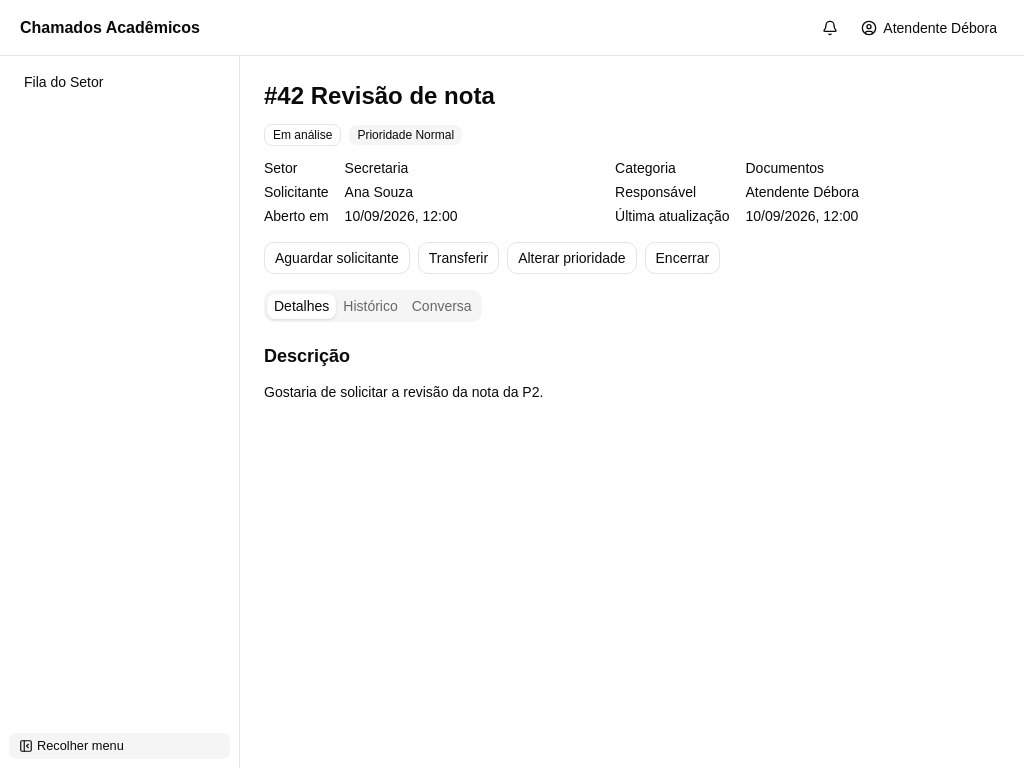
Test: TransferDialog (BR9.7, US2.4) › requires a justification of at least 5 characters before sending (AC2.4.3)
This screenshot has width=1024, height=768.
Expected: the heading "#42 Revisão de nota" is shown, [264,82,495,109]
Click the button with test id "ticket-actions-transfer-button" at (458, 258), box [418,242,499,274]
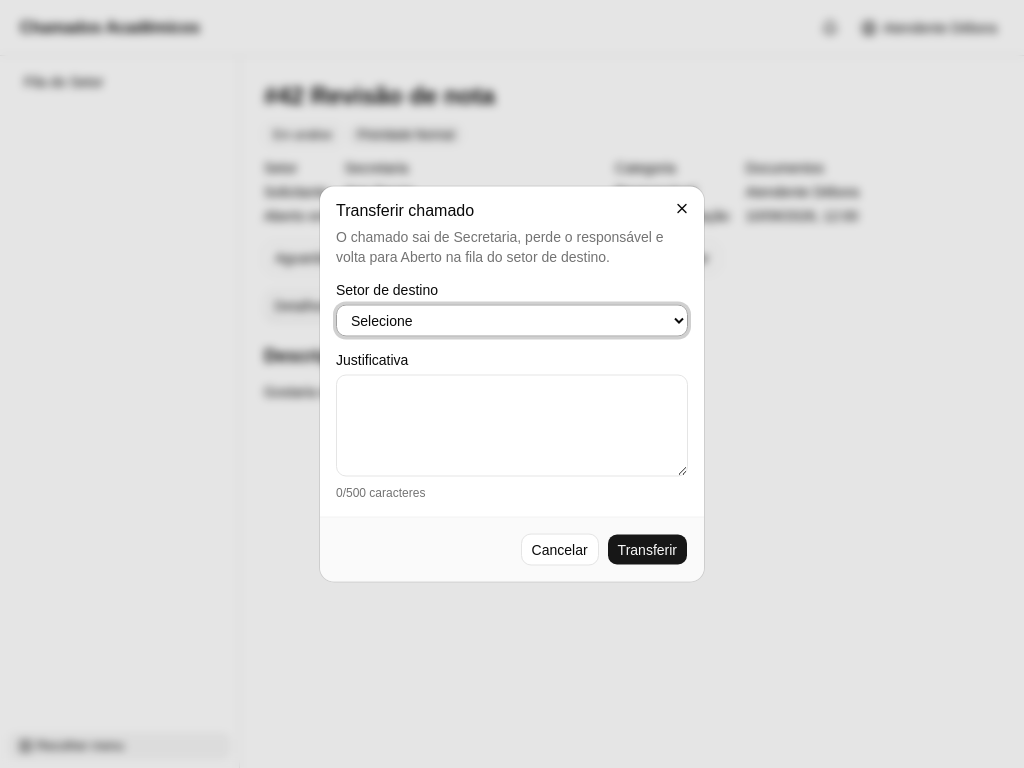
Select "Financeiro" in the dropdown labelled "Setor de destino" at (512, 320), box [336,304,688,336]
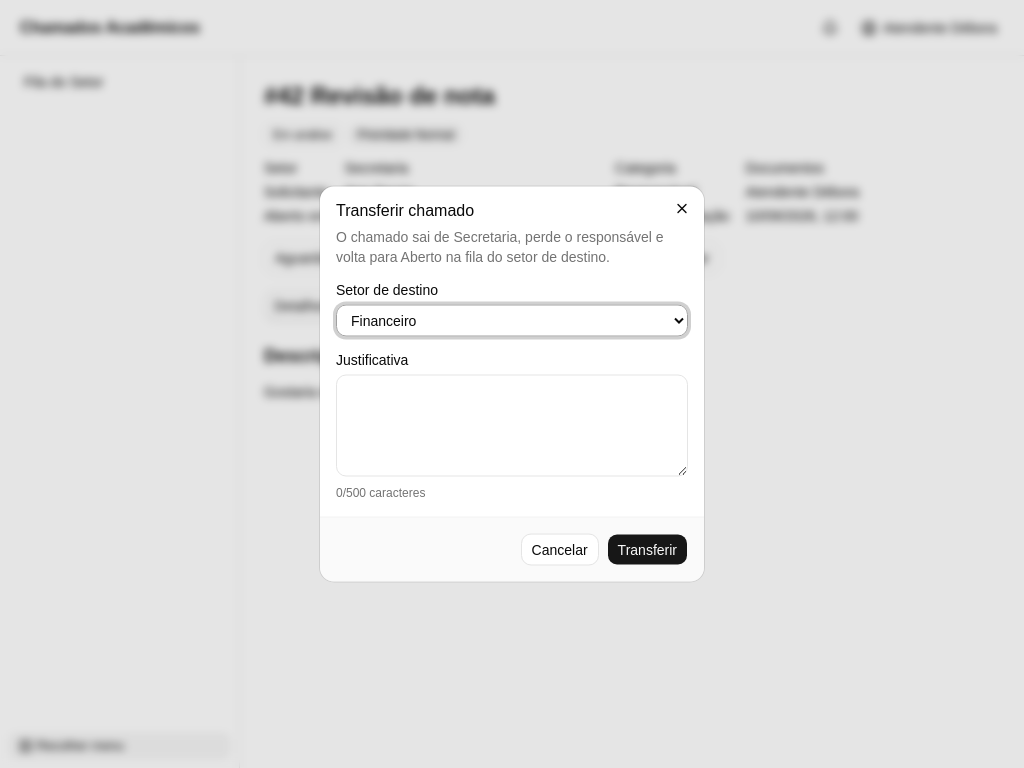
Type "abc" into the text box labelled "Justificativa" at (512, 426), box [336,374,688,476]
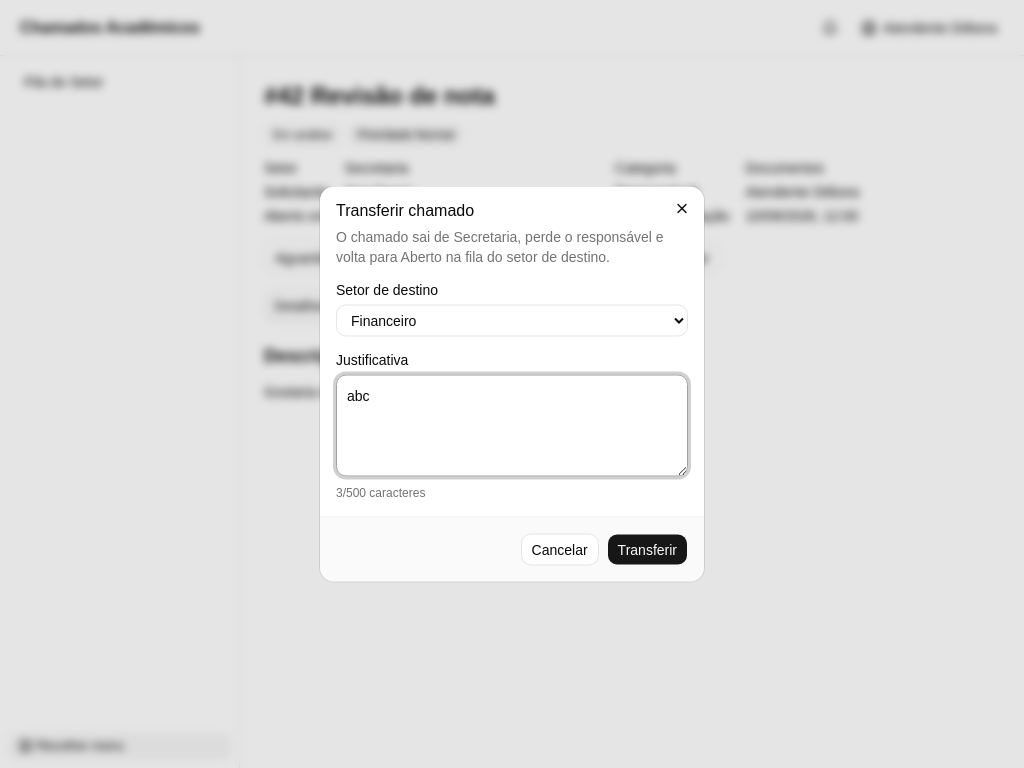
Click the button "Transferir" at (647, 550), box [607,534,688,566]
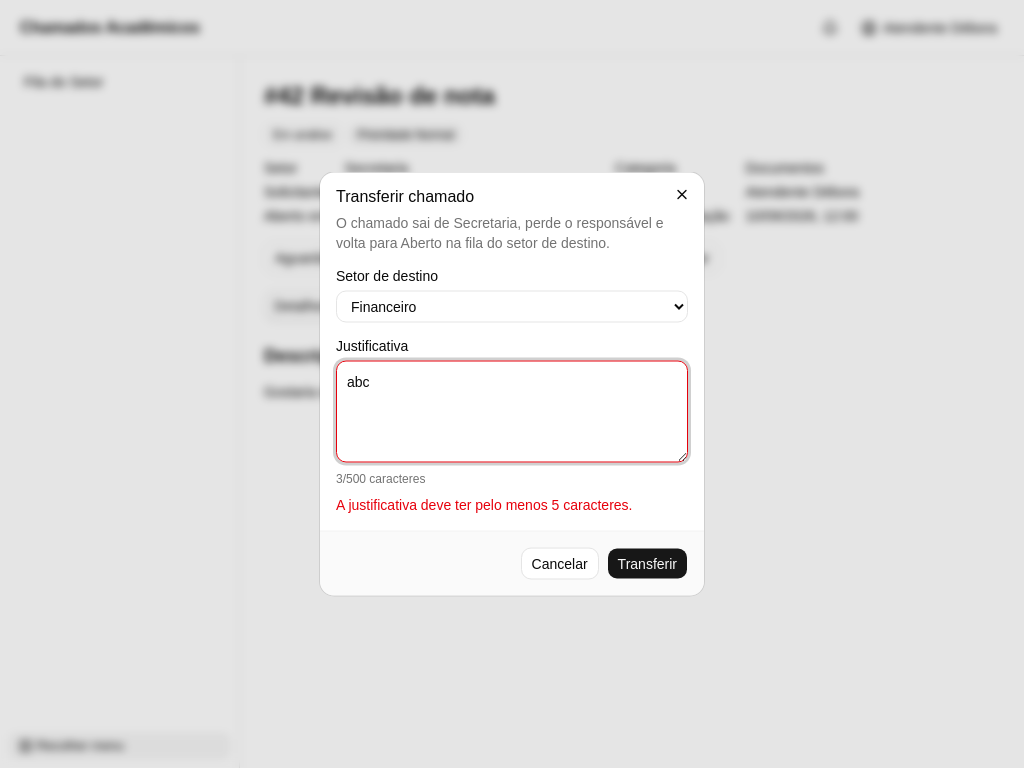
Expected: the text "A justificativa deve ter pelo menos 5 caracteres." is shown, [336,496,632,512]
